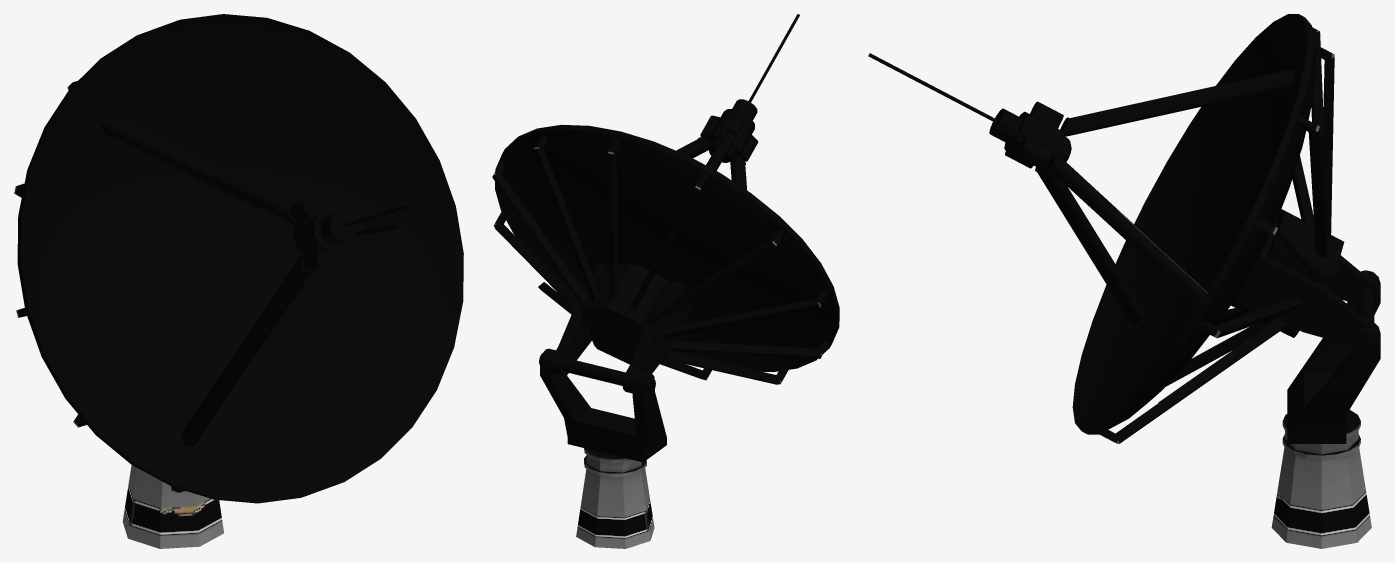
The picture shows the model from 3 angles, left to right: view 1: azimuth 30°, elevation 25°; view 2: azimuth 150°, elevation 25°; view 3: azimuth 270°, elevation 25°; orthographic projection. The views are drawn at different scales.
Parts seen in each view (by area): view 1: body0_model0_lod0_mesh0; view 2: body0_model0_lod0_mesh0; view 3: body0_model0_lod0_mesh0.
Part boxes in pixels (x1,y1,x2,y2): body0_model0_lod0_mesh0: [14, 14, 463, 548]; body0_model0_lod0_mesh0: [492, 14, 839, 548]; body0_model0_lod0_mesh0: [868, 14, 1380, 548].
Bounding box in the file's own units: 384 × 441 × 418.
Materials: 1 (1 with a texture image).
